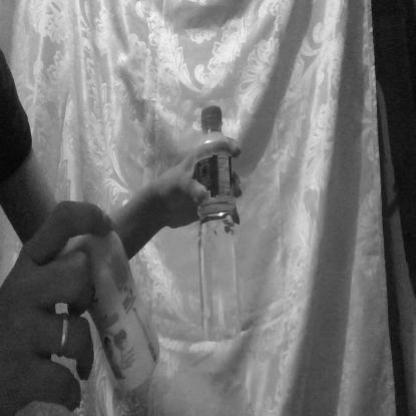Plastic Bottle: (178, 66, 266, 358)
